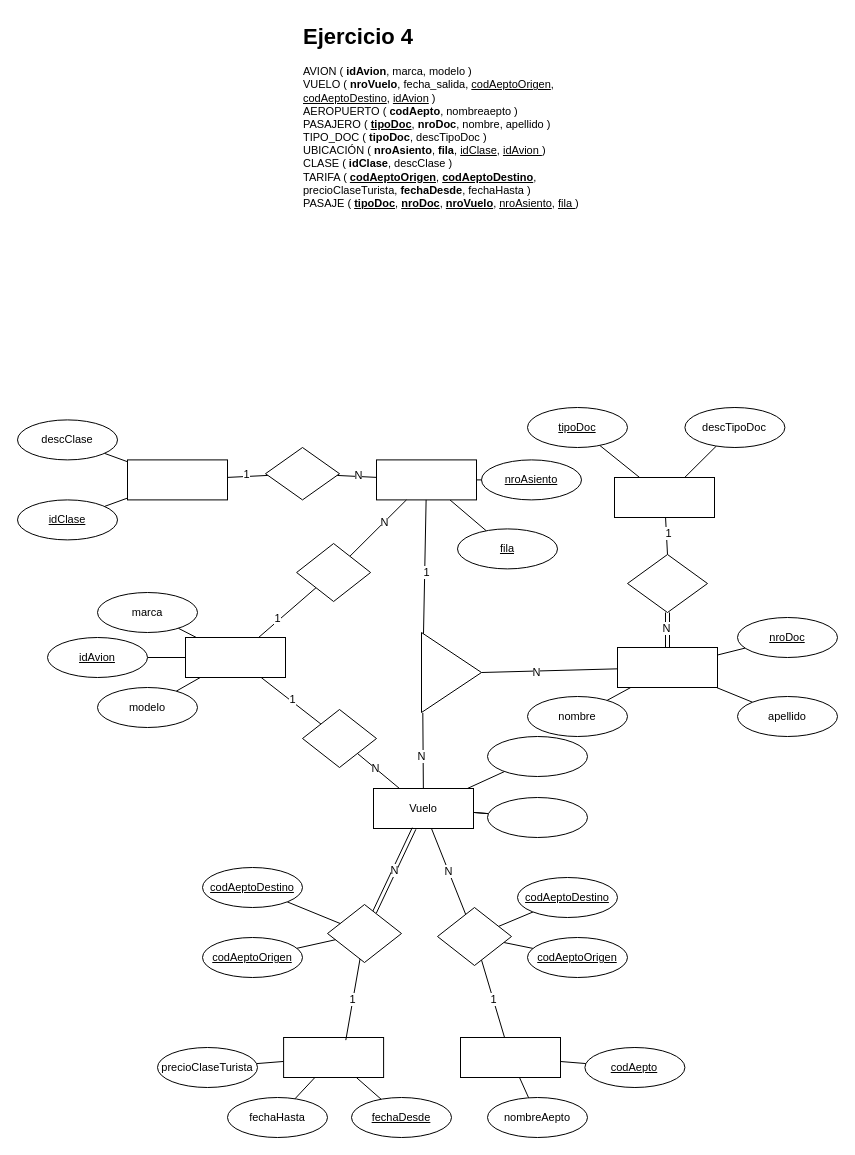
The diagram is 855 pixels wide and 1155 high, and some of its shapes have lost their labels. Here are the shapes that lost their labels. From the top down, the centre of each, then its label:
At (x=177, y=479): "Clase".
At (x=426, y=479): "Ubicacion".
At (x=664, y=497): "Tipo_Doc".
At (x=235, y=657): "Avion".
At (x=451, y=672): "Pasaje".
At (x=667, y=667): "Pasajero".
At (x=537, y=756): "nroVuelo".
At (x=537, y=817): "fecha_salida".
At (x=333, y=1057): "Tarifa".
At (x=510, y=1057): "Aeropuerto".
